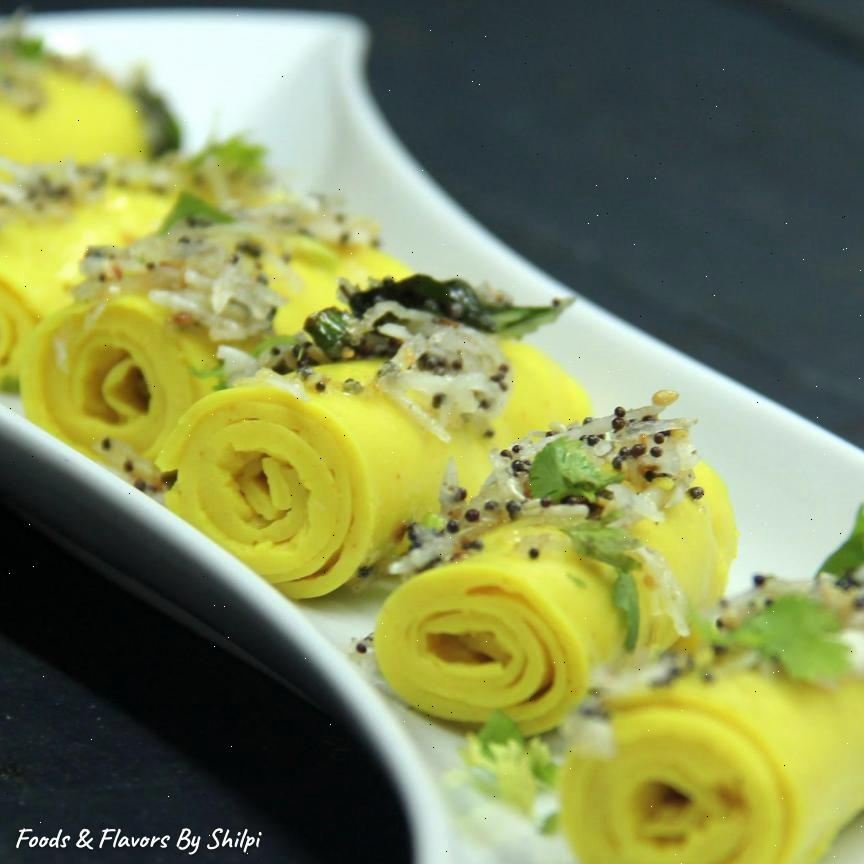khandvi: (0, 170, 858, 815)
